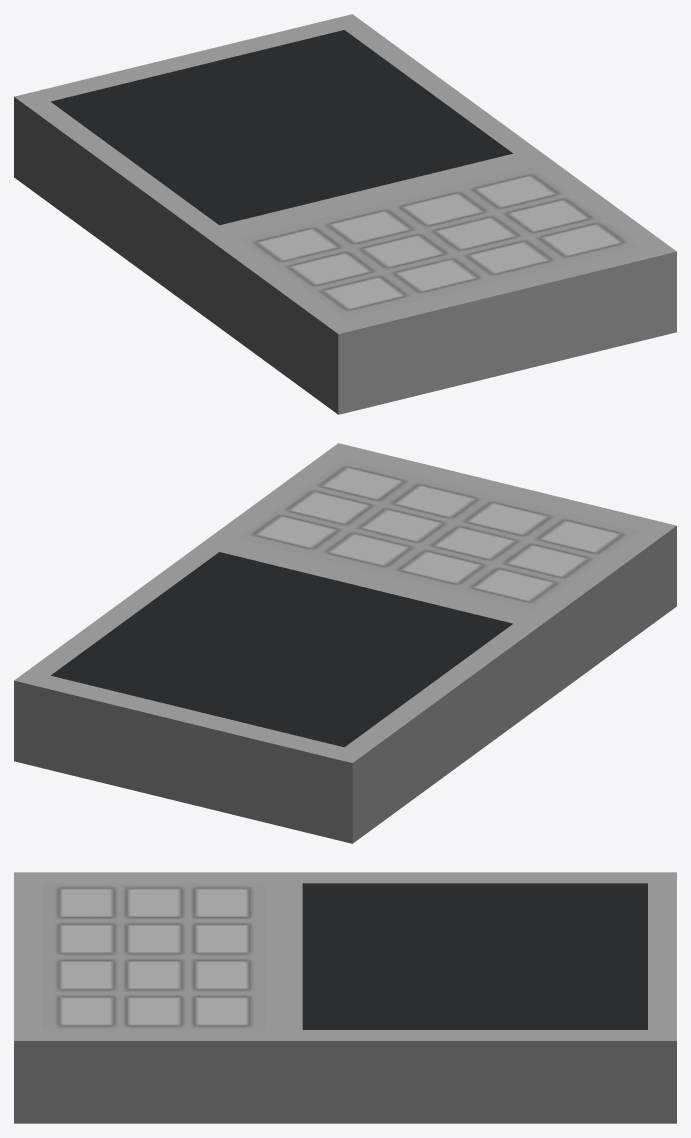
Rendered from SO_Cellphone.fbx.
The picture shows the model from 3 angles, top to bottom: view 1: azimuth 30°, elevation 25°; view 2: azimuth 150°, elevation 25°; view 3: azimuth 270°, elevation 25°; orthographic projection. The views are drawn at different scales.
Parts seen in each view (by area): view 1: SO_Cellphone; view 2: SO_Cellphone; view 3: SO_Cellphone.
Boxes of the visible parts, bbox=[...] form: SO_Cellphone: bbox=[14, 14, 676, 414]; SO_Cellphone: bbox=[14, 443, 676, 843]; SO_Cellphone: bbox=[14, 872, 676, 1123].
Bounding box in the file's own units: 0.1665 × 0.0379 × 0.2765.
